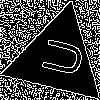U: (32, 33, 85, 80)
